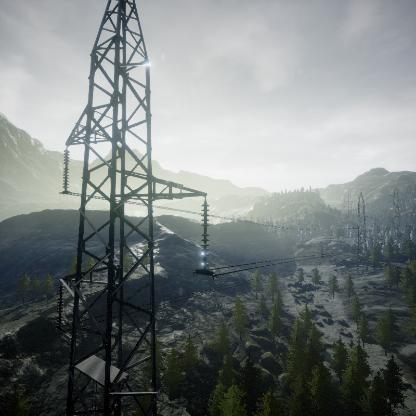insulator: (200, 201, 211, 268), (62, 149, 71, 191), (56, 283, 65, 325)
